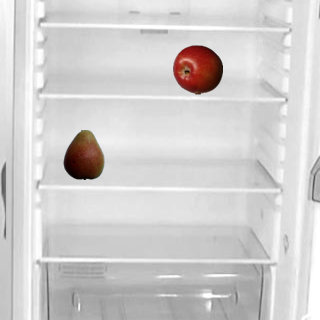Apple Braeburn: (172, 44, 222, 94)
Pear Forelle: (58, 129, 108, 179)
